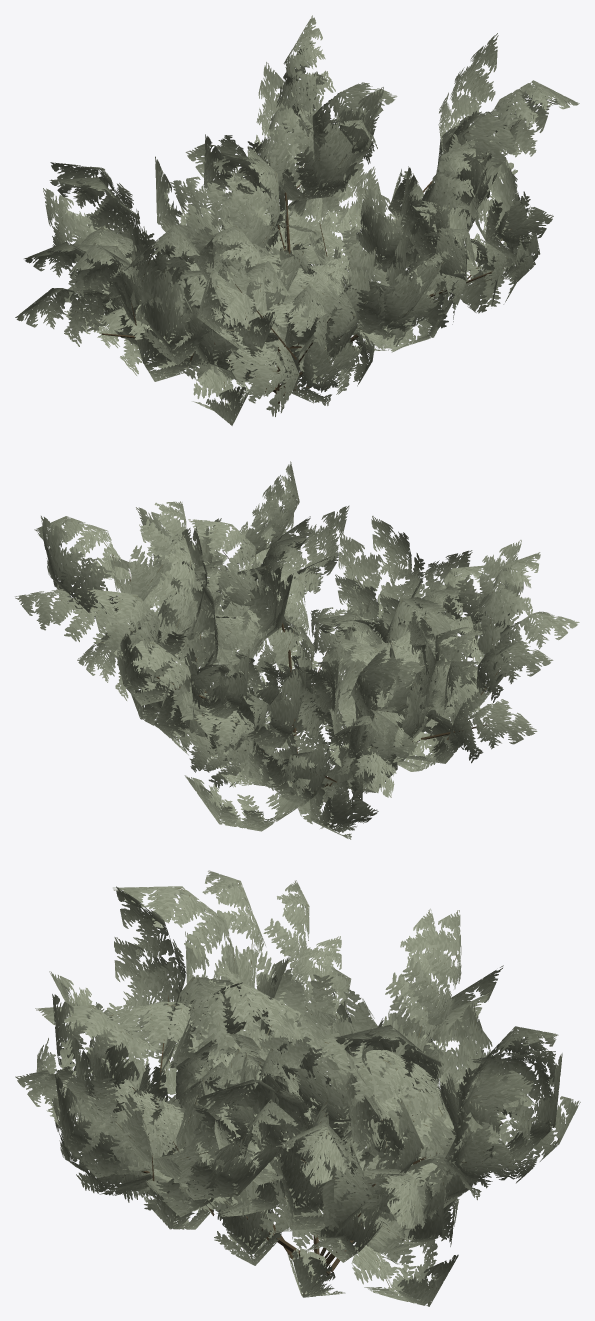
Rendered from SM_CN_Sage_B_LOD1.glb.
3 renders of one model, top to bottom at view 1: azimuth 30°, elevation 25°; view 2: azimuth 150°, elevation 25°; view 3: azimuth 270°, elevation 25°, orthographic. The views are drawn at different scales.
Visible parts, largest first — view 1: SM_CN_Sage_B_LOD1; view 2: SM_CN_Sage_B_LOD1; view 3: SM_CN_Sage_B_LOD1.
Part boxes in pixels (bbox=[...]): SM_CN_Sage_B_LOD1: bbox=[15, 15, 579, 425]; SM_CN_Sage_B_LOD1: bbox=[15, 461, 579, 839]; SM_CN_Sage_B_LOD1: bbox=[15, 870, 580, 1306].
Size of the model in its own units: 1.25 by 0.62 by 0.9305.
Materials: 2 (2 with a texture image).
